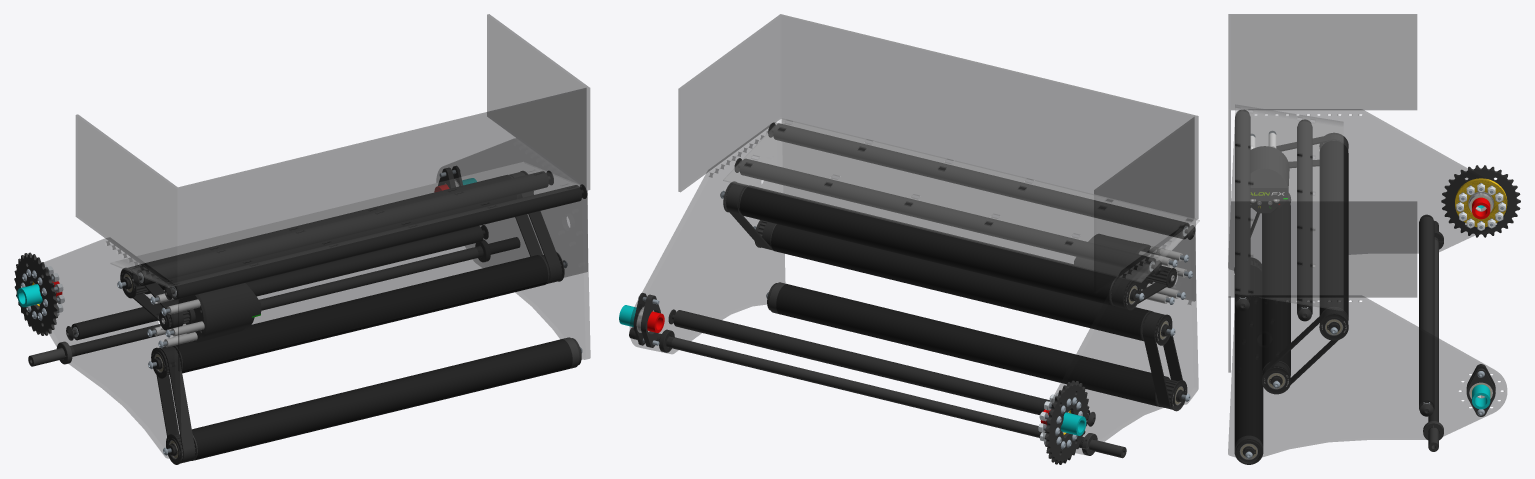
3 renders of one model, left to right at view 1: azimuth 30°, elevation 25°; view 2: azimuth 150°, elevation 25°; view 3: azimuth 270°, elevation 25°, orthographic. The views are drawn at different scales.
Parts seen in each view (by area): view 1: Part 37, Intake Plate (×2), Silicon Tubing (×3), 0.625" ID x 0.75" OD Aluminum Round Tube (20.75" L) (×3), FUEL Ramp, 0.196" ID x 0.5" OD Aluminum Round Tube (25" L), 60T 5M Belt (×2), Kraken X60 Brushless Motor, 30t Aluminum Sprocket (#35, SplineXL Bore), 50T 5M Belt; view 2: Part 37, Silicon Tubing (×3), Intake Plate (×2), FUEL Ramp, 0.625" ID x 0.75" OD Aluminum Round Tube (20.75" L) (×3), 0.196" ID x 0.5" OD Aluminum Round Tube (25" L), 60T 5M Belt (×2), 30t Aluminum Sprocket (#35, SplineXL Bore), Kraken X60 Brushless Motor, 50T 5M Belt; view 3: Intake Plate (×2), Part 37, FUEL Ramp, Silicon Tubing (×3), 0.625" ID x 0.75" OD Aluminum Round Tube (20.75" L) (×3), Kraken X60 Brushless Motor, 30t Aluminum Sprocket (#35, SplineXL Bore), 0.196" ID x 0.5" OD Aluminum Round Tube (25" L), 20t Pulley w/ SplineXL ID Aluminum Stub Roller Hub (5mm HTD) (×2), 60T 5M Belt, Sprocket Spacer, 50T 5M Belt (+4 smaller).
Boxes of the visible parts, left/top/right/bottom form: Part 37: left=76, top=14, right=589, bottom=371; Intake Plate (×2): left=44, top=138, right=590, bottom=459; Silicon Tubing (×3): left=143, top=175, right=572, bottom=460; 0.625" ID x 0.75" OD Aluminum Round Tube (20.75" L) (×3): left=71, top=171, right=581, bottom=340; FUEL Ramp: left=110, top=162, right=581, bottom=287; 0.196" ID x 0.5" OD Aluminum Round Tube (25" L): left=28, top=237, right=520, bottom=366; 60T 5M Belt (×2): left=157, top=172, right=561, bottom=463; Kraken X60 Brushless Motor: left=161, top=283, right=261, bottom=342; 30t Aluminum Sprocket (#35, SplineXL Bore): left=14, top=252, right=58, bottom=335; 50T 5M Belt: left=128, top=265, right=183, bottom=328; Part 37: left=678, top=14, right=1198, bottom=301; Silicon Tubing (×3): left=740, top=185, right=1165, bottom=406; Intake Plate (×2): left=630, top=122, right=1198, bottom=454; FUEL Ramp: left=723, top=118, right=1199, bottom=282; 0.625" ID x 0.75" OD Aluminum Round Tube (20.75" L) (×3): left=673, top=123, right=1189, bottom=423; 0.196" ID x 0.5" OD Aluminum Round Tube (25" L): left=629, top=327, right=1126, bottom=458; 60T 5M Belt (×2): left=726, top=182, right=1182, bottom=409; 30t Aluminum Sprocket (#35, SplineXL Bore): left=1044, top=380, right=1089, bottom=464; Kraken X60 Brushless Motor: left=1074, top=234, right=1174, bottom=289; 50T 5M Belt: left=1111, top=266, right=1170, bottom=308; Intake Plate (×2): left=1228, top=109, right=1506, bottom=460; Part 37: left=1228, top=14, right=1416, bottom=372; FUEL Ramp: left=1235, top=105, right=1343, bottom=310; Silicon Tubing (×3): left=1234, top=140, right=1348, bottom=445; 0.625" ID x 0.75" OD Aluminum Round Tube (20.75" L) (×3): left=1235, top=111, right=1434, bottom=410; Kraken X60 Brushless Motor: left=1250, top=146, right=1289, bottom=212; 30t Aluminum Sprocket (#35, SplineXL Bore): left=1441, top=165, right=1520, bottom=237; 0.196" ID x 0.5" OD Aluminum Round Tube (25" L): left=1428, top=221, right=1438, bottom=451; 20t Pulley w/ SplineXL ID Aluminum Stub Roller Hub (5mm HTD) (×2): left=1262, top=307, right=1348, bottom=394; 60T 5M Belt: left=1262, top=308, right=1348, bottom=384; Sprocket Spacer: left=1455, top=178, right=1507, bottom=227; 50T 5M Belt: left=1276, top=134, right=1348, bottom=168.
Size of the model in its own units: 0.635 by 0.3553 by 0.3545.
